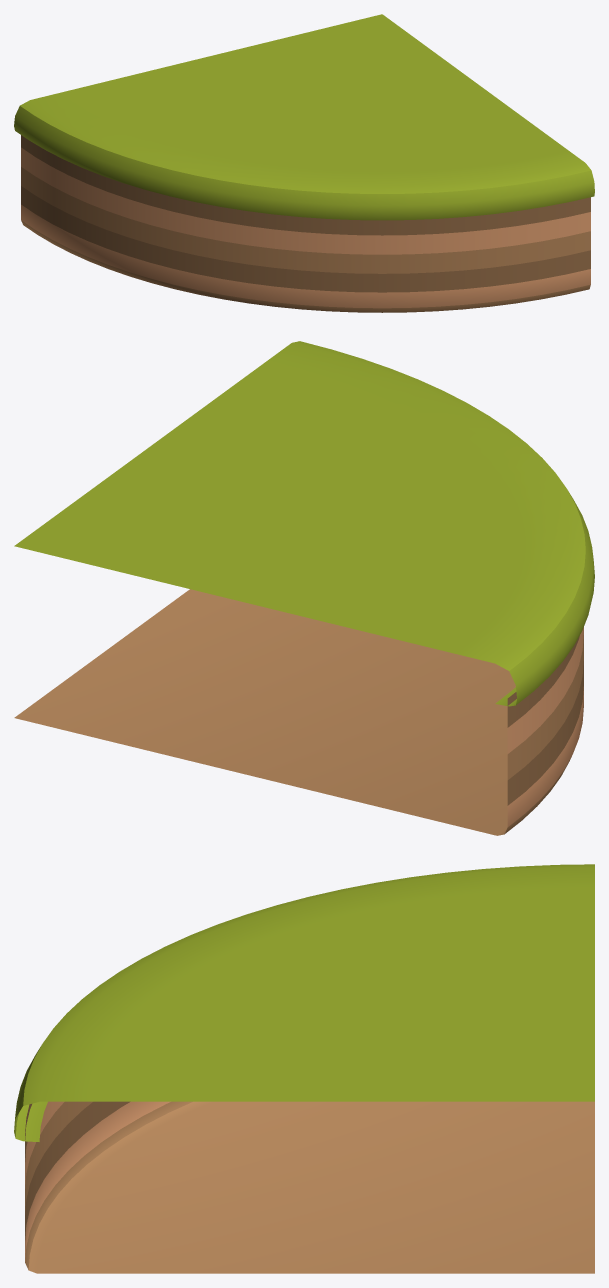
The model's file is platform_grass_corner_round3.gltf.
3 renders of one model, top to bottom at view 1: azimuth 30°, elevation 25°; view 2: azimuth 150°, elevation 25°; view 3: azimuth 270°, elevation 25°, orthographic. The views are drawn at different scales.
Visible parts, largest first — view 1: Cube_Grass_Corner_Round3; view 2: Cube_Grass_Corner_Round3; view 3: Cube_Grass_Corner_Round3.
Boxes of the visible parts, x1=… form: Cube_Grass_Corner_Round3: x1=14, y1=14, x2=594, y2=312; Cube_Grass_Corner_Round3: x1=14, y1=341, x2=594, y2=835; Cube_Grass_Corner_Round3: x1=14, y1=864, x2=594, y2=1273.
Bounding box in the file's own units: 6.12 × 2 × 6.12.
